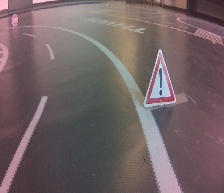warning sign: (142, 47, 177, 108)
